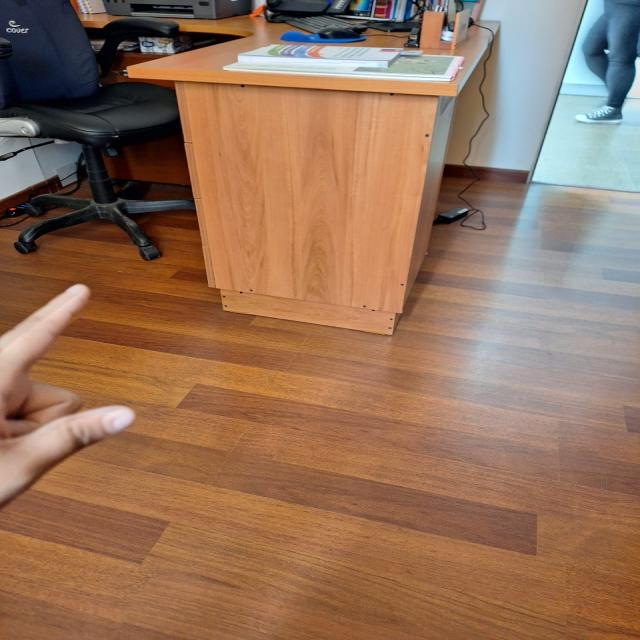X: (3, 271, 164, 531)
